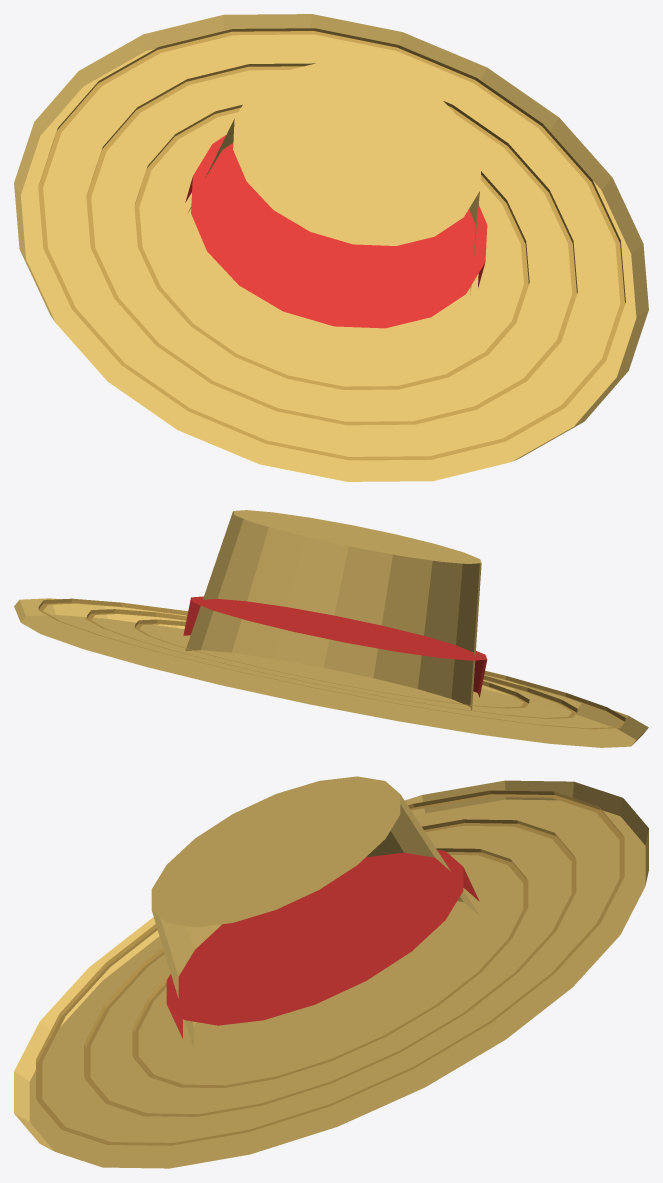
File: halmhatt.glb
The picture shows the model from 3 angles, top to bottom: view 1: azimuth 30°, elevation 25°; view 2: azimuth 150°, elevation 25°; view 3: azimuth 270°, elevation 25°; orthographic projection. The views are drawn at different scales.
Parts seen in each view (by area): view 1: halmhatt; view 2: halmhatt; view 3: halmhatt.
Part boxes in pixels (x1,y1,x2,y2): halmhatt: (14,14,648,481); halmhatt: (14,510,648,747); halmhatt: (14,776,648,1168).
Bounding box in the file's own units: 0.66 × 0.3113 × 0.6017.
